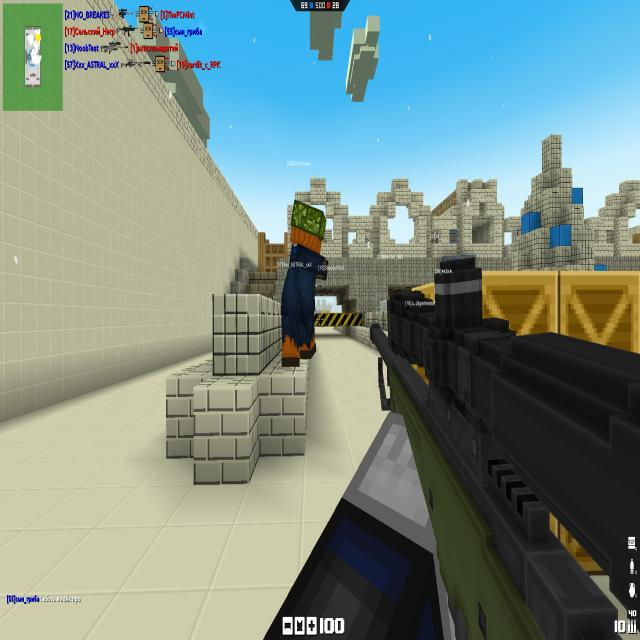player: (279, 202, 323, 369)
